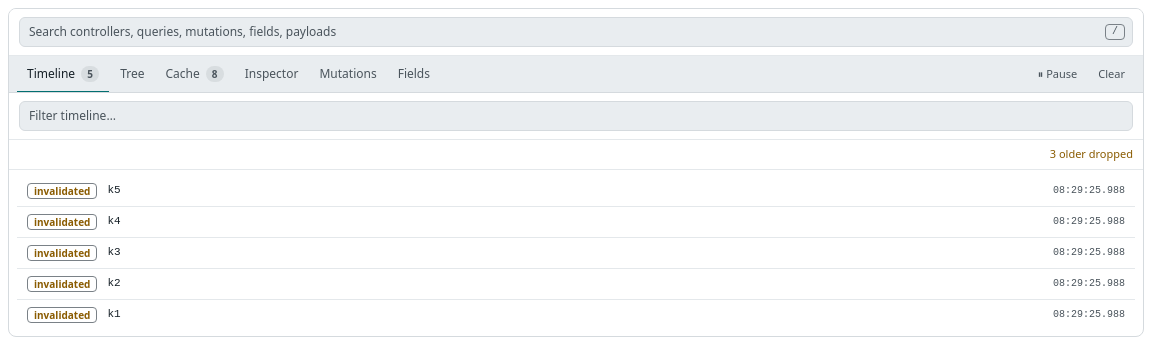
Test case: ring buffer indicator — T8.2 › the timeline shows how many events the ring overwrote; Clear resets it
The width and height of the screenshot is (1152, 354).
expect the text with class "olas-devtools-dropped" reads "3 older dropped": met, box [1050,146,1133,162]
expect the number of elements with class "olas-devtools-tl-row" is 5: met, box [17,176,1135,206]; [17,206,1135,238]; [17,238,1135,268]; [17,268,1135,300]; [27,306,1125,322]
Click the text "Clear" at (1112, 73), box [1098,66,1125,81]
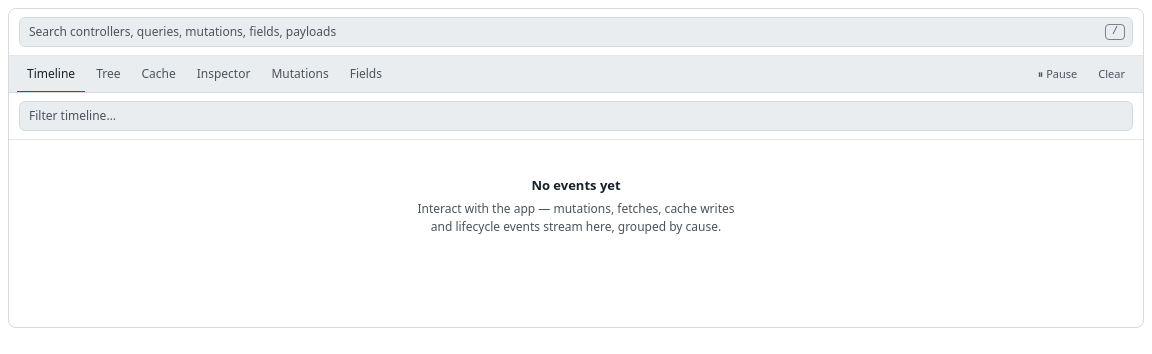
expect the text with class "olas-devtools-dropped" is gone: met
